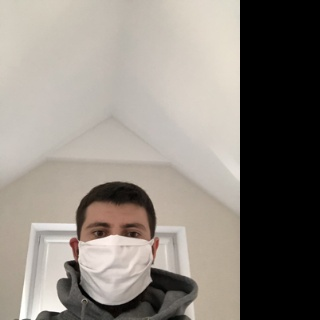with_mask: (78, 213, 155, 306)
